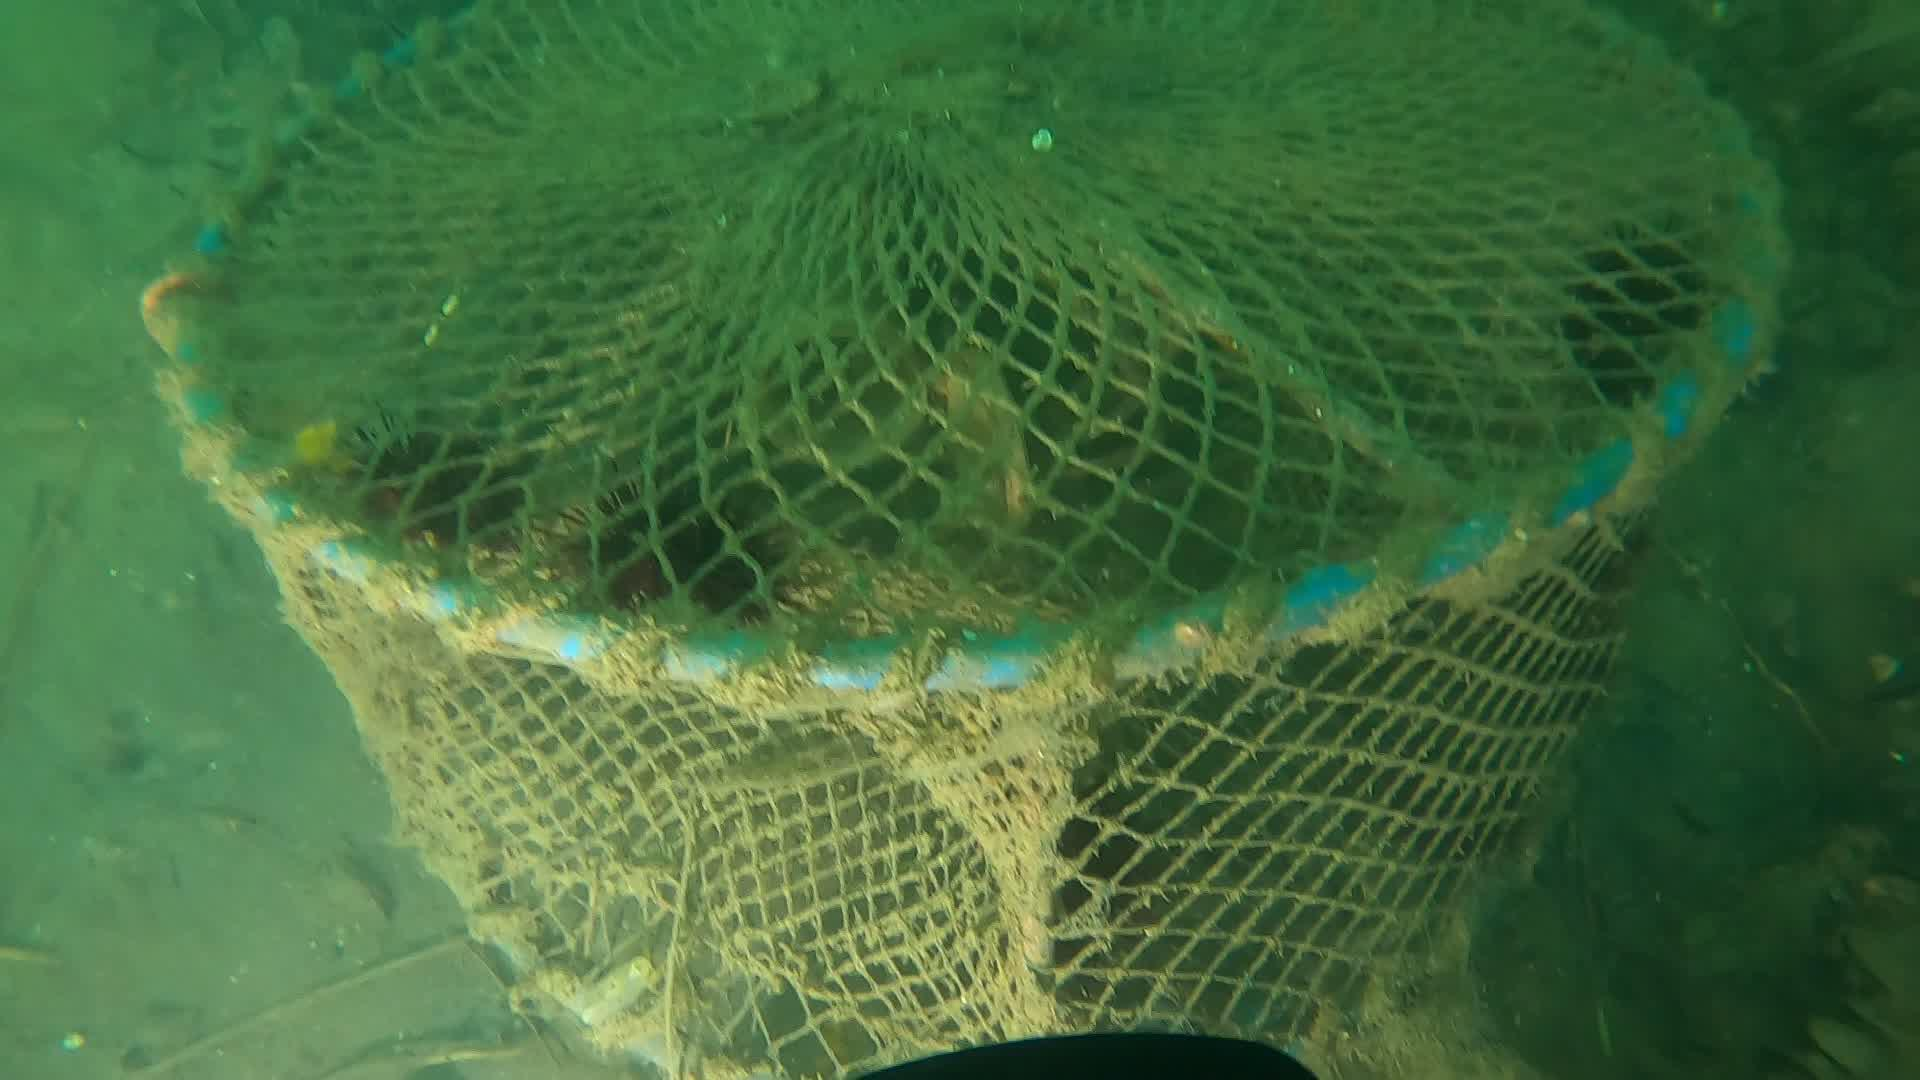circular fish trap: (157, 0, 1800, 1080)
